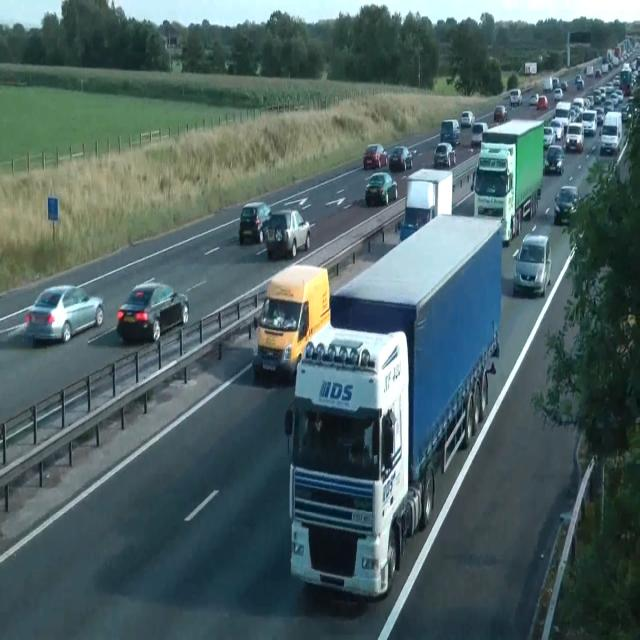bus: (24, 283, 104, 345), (117, 278, 189, 342), (512, 232, 552, 297), (399, 205, 433, 243), (364, 172, 398, 206), (553, 185, 579, 225), (363, 143, 387, 170), (388, 146, 413, 170), (434, 141, 456, 168), (470, 122, 488, 145), (542, 126, 556, 150), (550, 118, 564, 140), (493, 105, 507, 123), (460, 110, 474, 128), (510, 88, 522, 106), (537, 94, 548, 110), (529, 92, 539, 106), (576, 75, 584, 89), (554, 87, 562, 101), (561, 80, 569, 90)
car: (251, 262, 331, 380)
jeep: (264, 208, 311, 259), (238, 201, 272, 244), (600, 110, 622, 154), (544, 143, 564, 174), (564, 121, 584, 152), (440, 118, 460, 145)
minibus: (284, 212, 503, 600), (471, 118, 544, 245), (399, 167, 453, 244), (524, 61, 538, 75)
